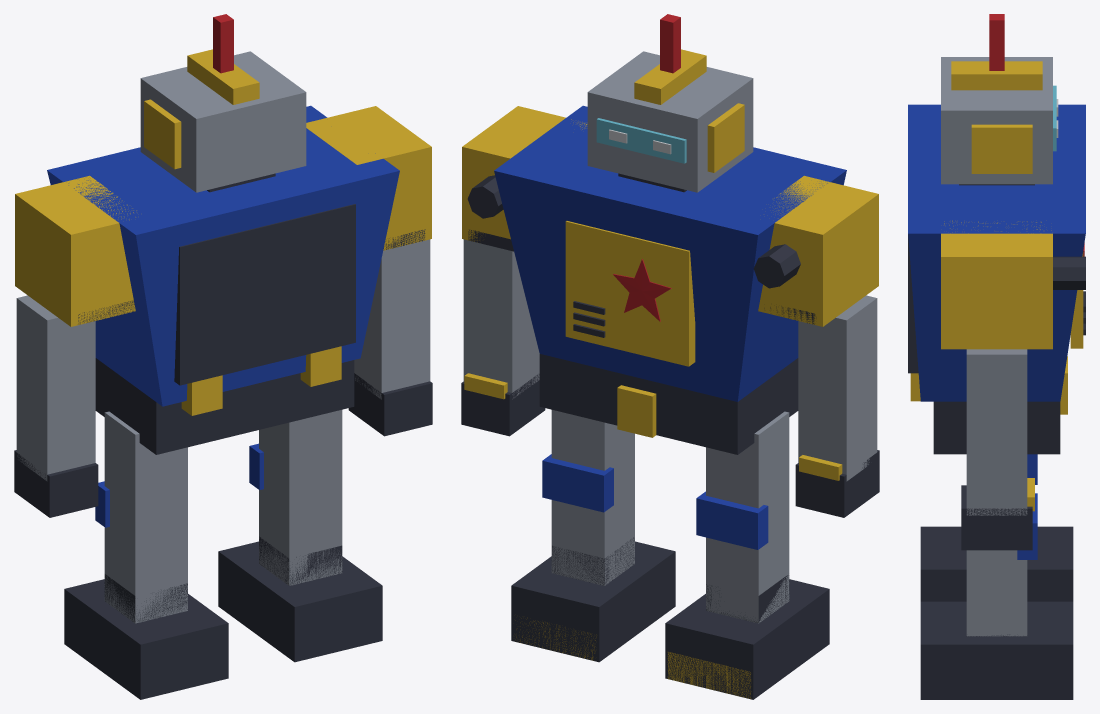
The model's file is Decor_HeroHQ_Mech.fbx.
3 views of the same model, side by side, from view 1: azimuth 30°, elevation 25°; view 2: azimuth 150°, elevation 25°; view 3: azimuth 270°, elevation 25° (orthographic).
Visible parts, largest first — view 1: Mech_Body; view 2: Mech_Body; view 3: Mech_Body.
Part boxes in pixels (<box>): Mech_Body: <box>14,14,432,699</box>; Mech_Body: <box>461,14,879,699</box>; Mech_Body: <box>908,14,1085,699</box>.
Bounding box in the file's own units: 17.4 × 27.1 × 7.
